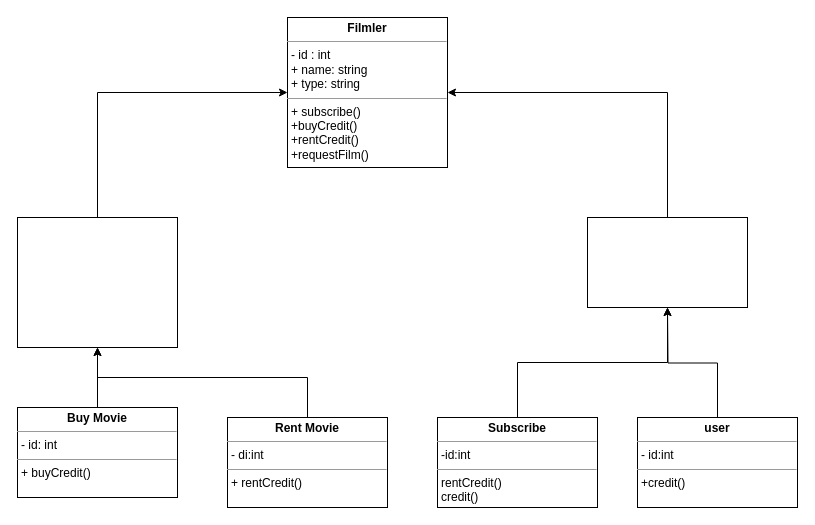
Image size: 815x525. Some labels were removed from this diagram. Each missing label, with the box of its shape:
Movie - id: int +name: string + type: string + list() +shortBy(): (16, 216, 178, 348)
users - id: int + name:string + buyCredit(): (586, 216, 748, 308)
